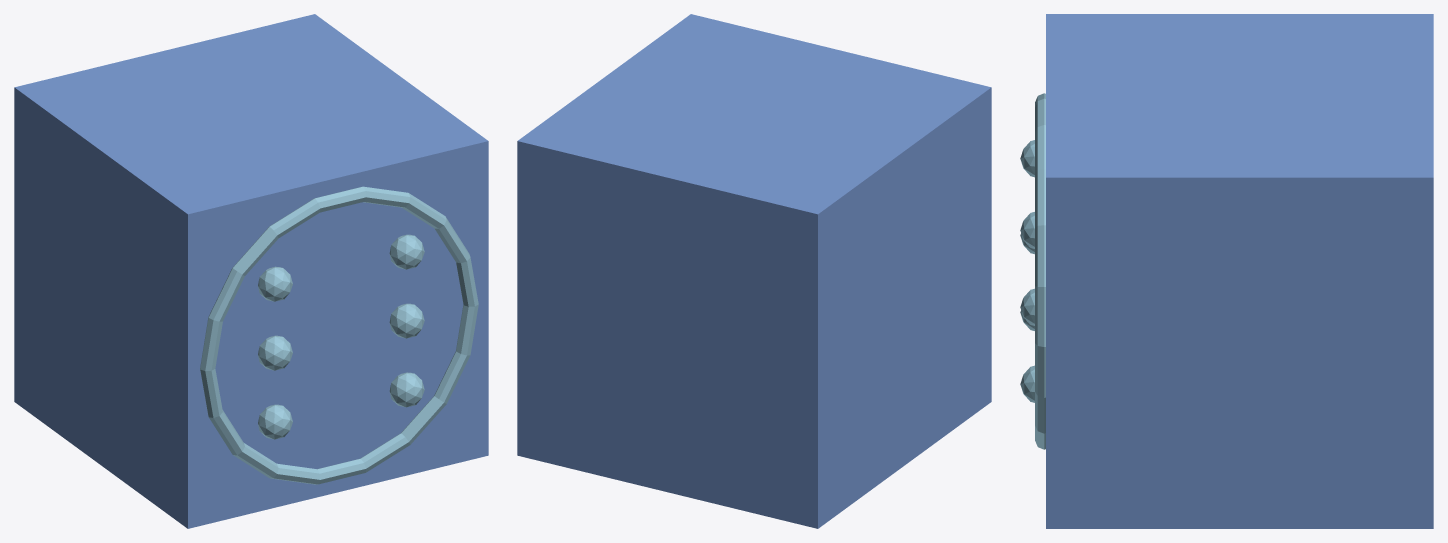
File: blitz.glb
3 renders of one model, left to right at view 1: azimuth 30°, elevation 25°; view 2: azimuth 150°, elevation 25°; view 3: azimuth 270°, elevation 25°, orthographic. The views are drawn at different scales.
Parts seen in each view (by area): view 1: world; view 2: world; view 3: world.
Part boxes in pixels (x1=…): world: x1=14, y1=14, x2=488, y2=528; world: x1=517, y1=14, x2=991, y2=528; world: x1=1020, y1=14, x2=1433, y2=528.
Size of the model in its own units: 1.05 by 1.05 by 1.12.
